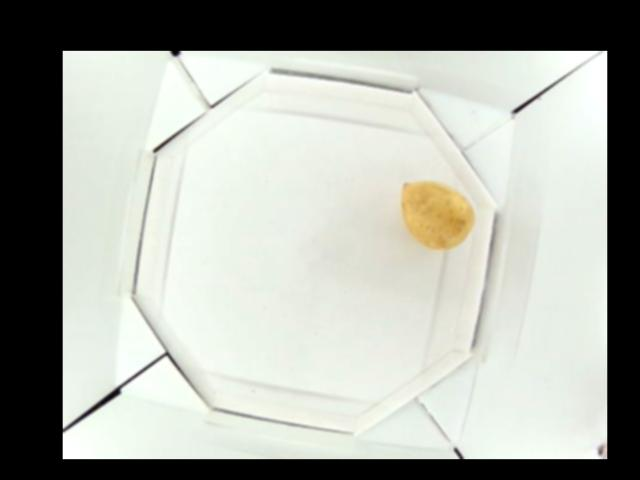Potato: (401, 180, 475, 251)
